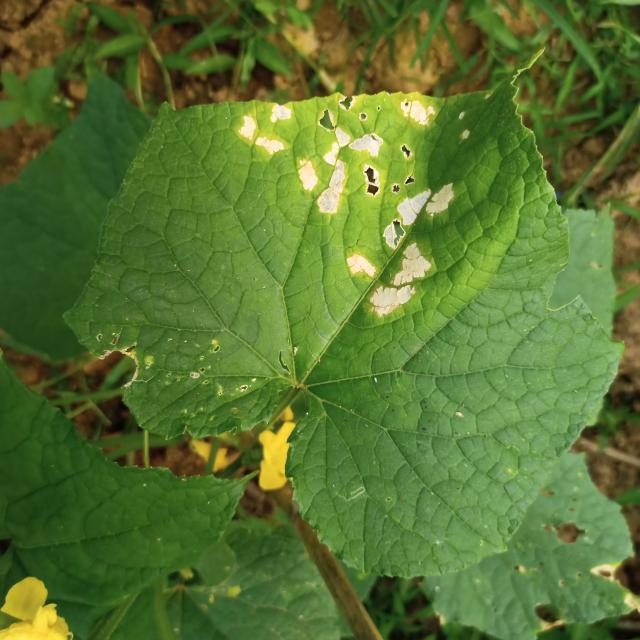disease_cucumber: (234, 87, 471, 322)
